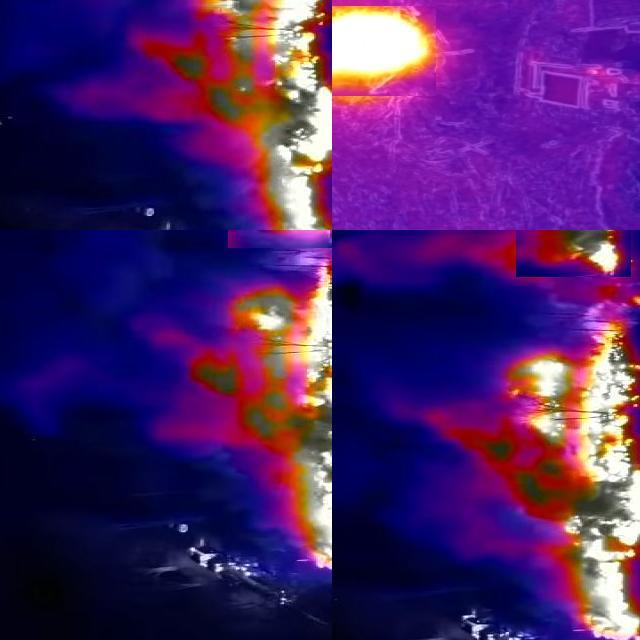fire: (484, 292, 640, 640), (194, 255, 333, 571), (155, 1, 333, 231), (333, 7, 436, 97), (516, 231, 631, 278)
